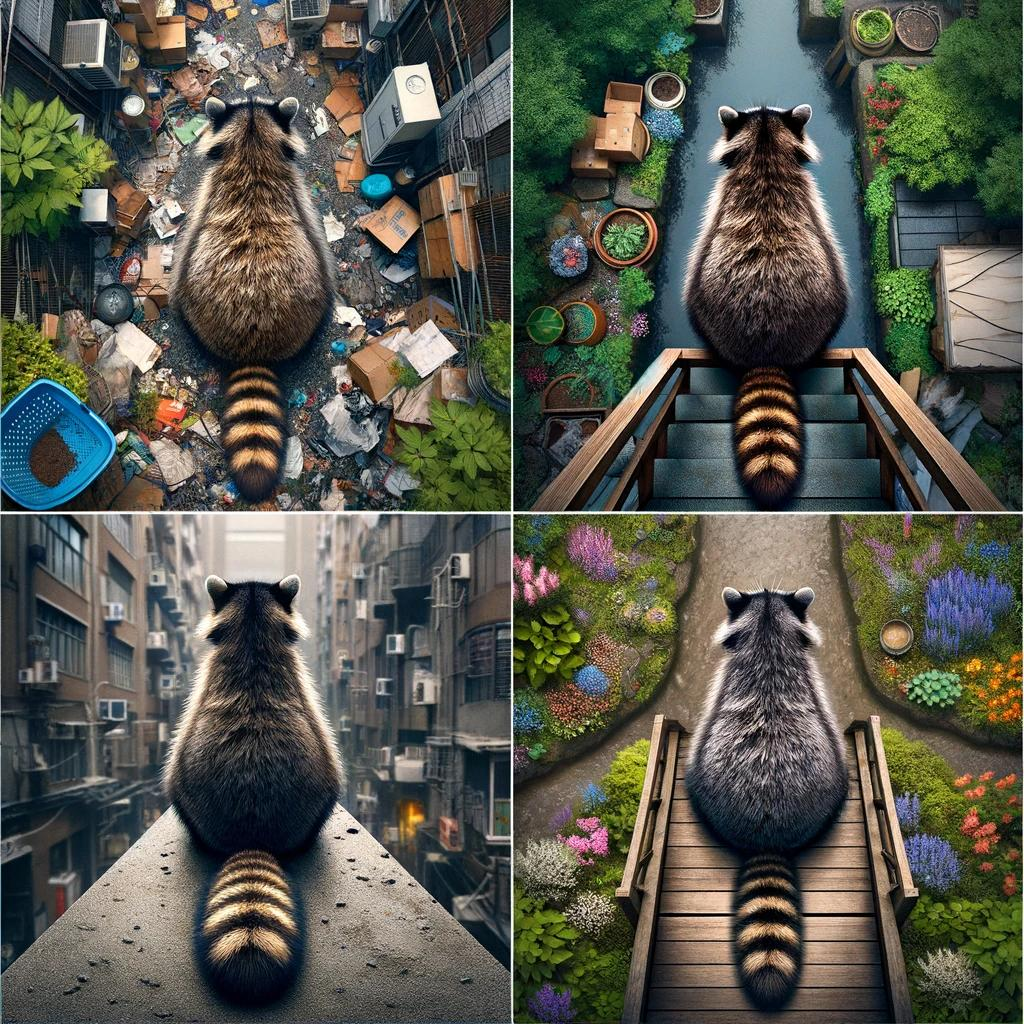raccoon: (153, 563, 352, 1024), (675, 572, 858, 1024), (157, 85, 352, 508), (675, 93, 858, 513)
